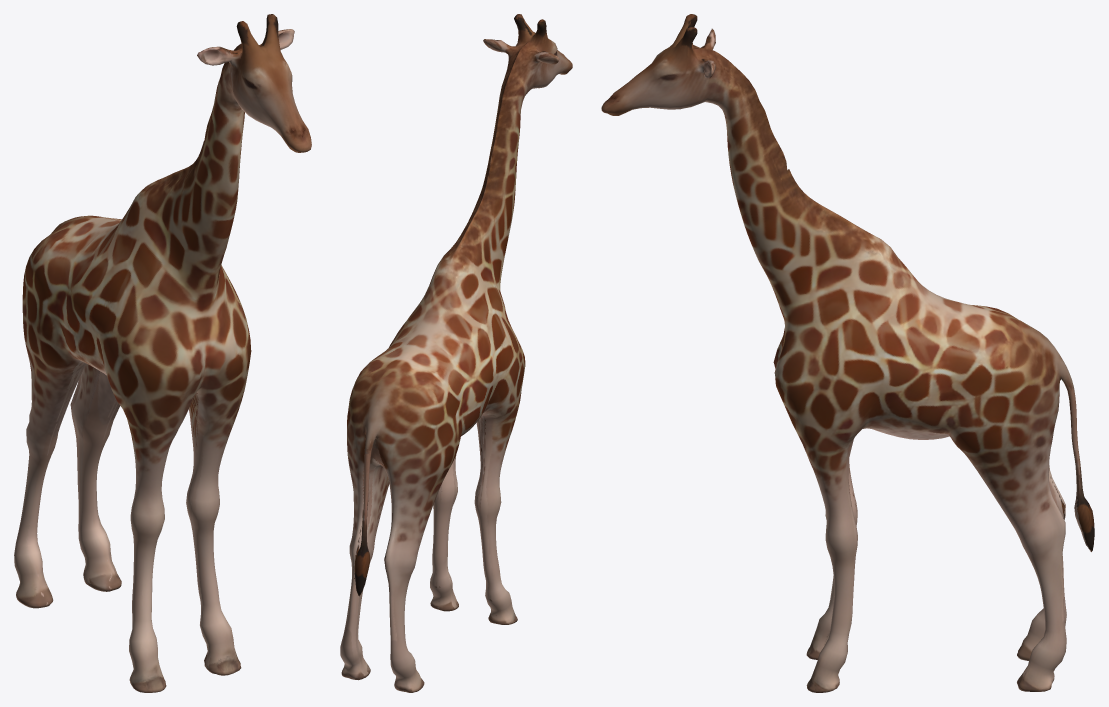
File: giraffe.fbx
The picture shows the model from 3 angles, left to right: view 1: azimuth 30°, elevation 25°; view 2: azimuth 150°, elevation 25°; view 3: azimuth 270°, elevation 25°; orthographic projection. The views are drawn at different scales.
Parts seen in each view (by area): view 1: Retopo_model.001; view 2: Retopo_model.001; view 3: Retopo_model.001.
Part boxes in pixels (x1,y1,x2,y2): Retopo_model.001: [14, 14, 311, 692]; Retopo_model.001: [340, 14, 572, 692]; Retopo_model.001: [601, 14, 1094, 692].
Bounding box in the file's own units: 35.88 × 190 × 130.
Materials: 1 (1 with a texture image).
